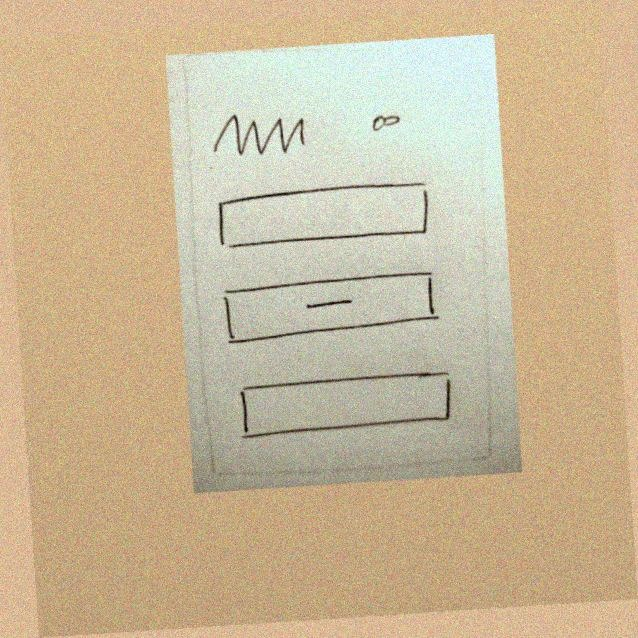button: (213, 266, 447, 347)
switch: (359, 103, 411, 140)
text: (204, 103, 314, 164)
text_input: (233, 362, 461, 445), (210, 176, 438, 258)
